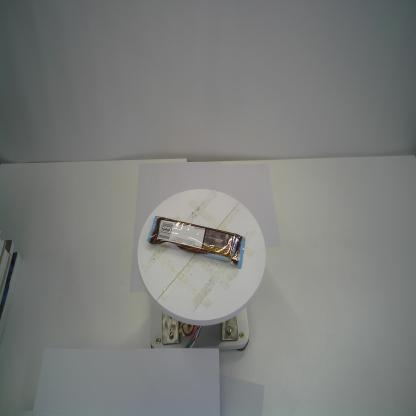Chocolate: (147, 216, 246, 270)
